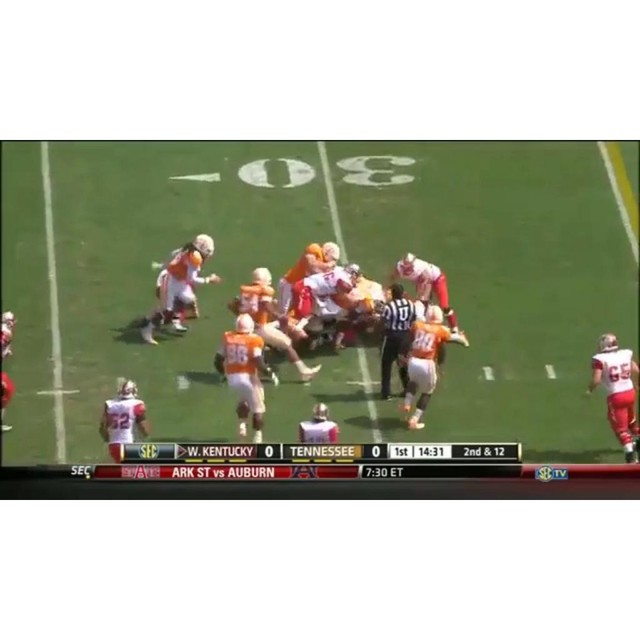american-football-player: (399, 306, 469, 431), (214, 313, 276, 444), (586, 333, 640, 464), (395, 252, 467, 343), (251, 302, 319, 383), (380, 281, 424, 403), (155, 239, 208, 340), (100, 380, 150, 464), (278, 242, 329, 314), (228, 266, 276, 331), (0, 313, 19, 430), (295, 401, 342, 444)
referee: (378, 282, 421, 400)
